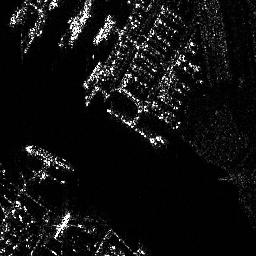ship: (22, 145, 75, 171), (68, 1, 89, 48), (92, 13, 115, 45), (84, 61, 103, 88), (53, 211, 70, 240)
